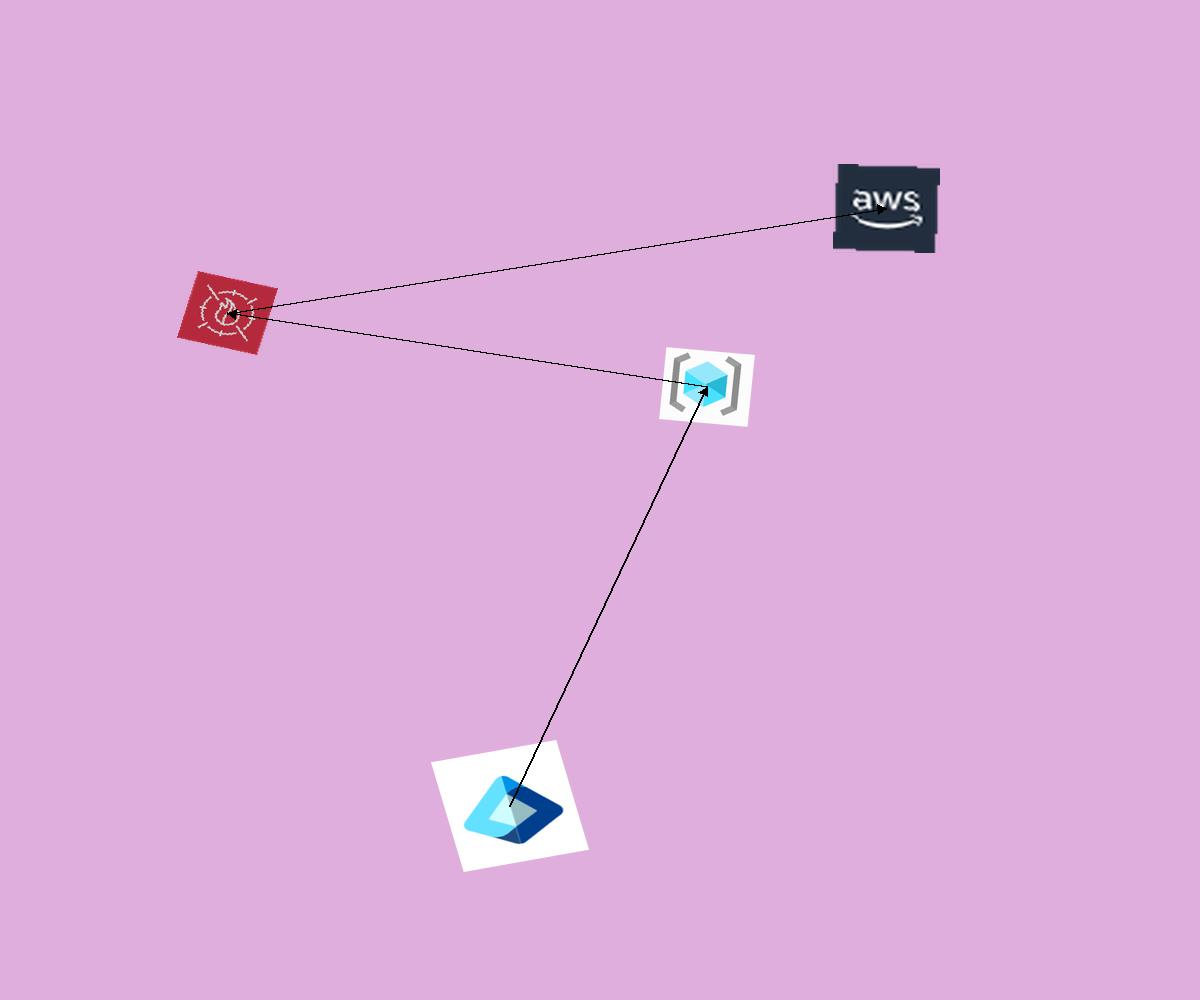AWS-Cloud-logo: (833, 164, 940, 253)
AWS-WAF: (177, 271, 278, 355)
Azure_microsoft_entra: (431, 740, 589, 872)
Azure_resource_group: (659, 347, 755, 427)
